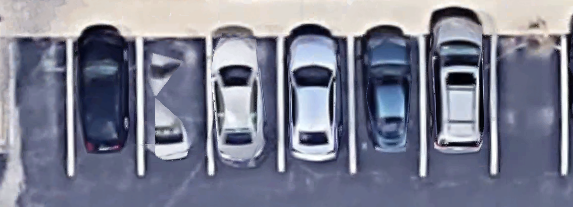Occupied: (422, 37, 495, 175), (280, 37, 353, 174), (352, 37, 424, 175), (210, 38, 282, 174), (70, 39, 141, 175), (140, 39, 211, 175)
Vacant: (494, 35, 565, 175), (5, 39, 70, 176)
